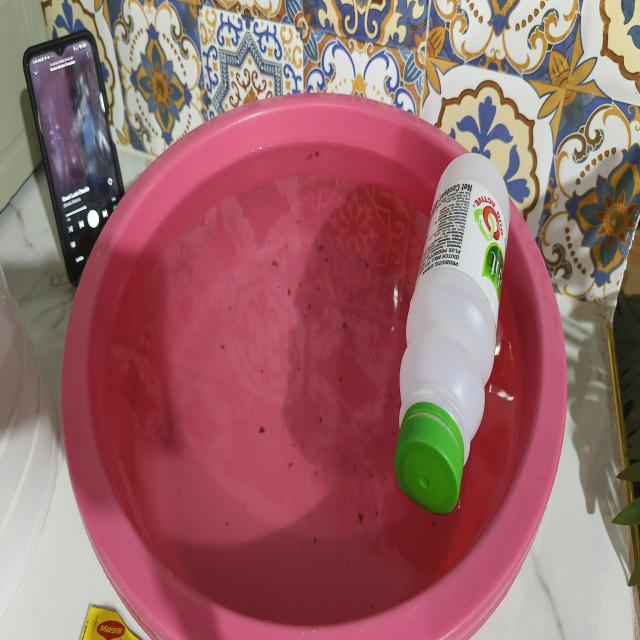Plastic Bottle: (358, 128, 536, 530)
